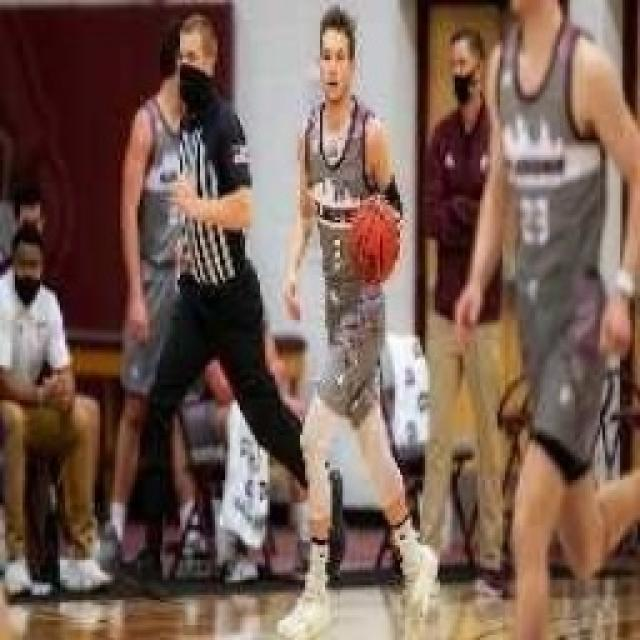basketball: (350, 206, 392, 282)
